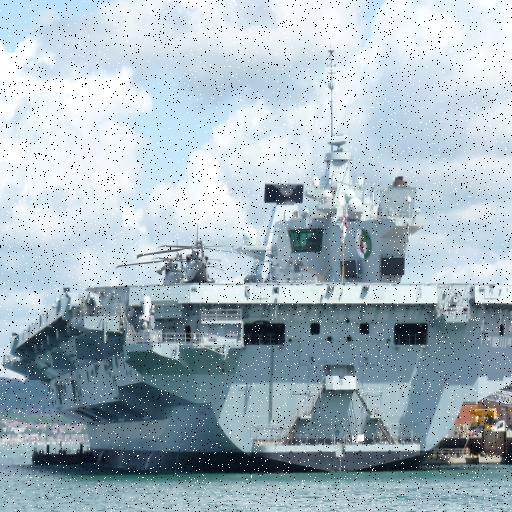Portanaves: (5, 39, 512, 480)
